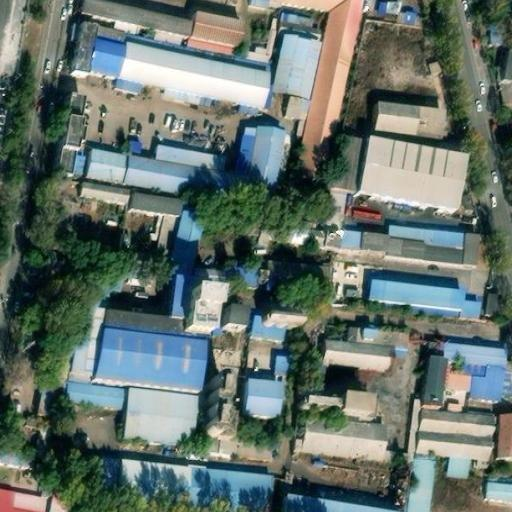building: (123, 127, 288, 201), (115, 48, 274, 118), (80, 459, 267, 512), (355, 149, 463, 221), (93, 341, 204, 405), (296, 411, 388, 464), (77, 2, 191, 43), (122, 395, 197, 455), (416, 413, 496, 463), (268, 42, 318, 115), (358, 235, 459, 268), (367, 286, 462, 318), (66, 38, 123, 89), (65, 315, 103, 388), (164, 289, 214, 342), (325, 261, 385, 305), (118, 226, 174, 270), (443, 363, 502, 404), (203, 369, 240, 434), (165, 220, 200, 283), (388, 221, 462, 250), (428, 343, 505, 370), (100, 319, 166, 349), (63, 387, 129, 416), (277, 496, 396, 512), (406, 461, 439, 512), (322, 347, 386, 373), (243, 383, 283, 423), (85, 151, 128, 186), (371, 110, 413, 145), (376, 11, 425, 41), (188, 24, 238, 53), (421, 360, 447, 415), (265, 261, 326, 284), (331, 142, 356, 196), (230, 428, 278, 456), (285, 217, 330, 246), (409, 112, 444, 149), (279, 1, 323, 30), (346, 385, 385, 415), (308, 381, 353, 407), (53, 126, 75, 177), (78, 185, 129, 206), (491, 417, 512, 465), (54, 204, 79, 240), (456, 232, 479, 271), (36, 374, 59, 413), (132, 198, 176, 217), (222, 319, 246, 353), (188, 267, 220, 289), (265, 327, 302, 345), (184, 305, 212, 327), (334, 231, 361, 253), (0, 443, 26, 465), (228, 273, 253, 295), (485, 484, 512, 503), (445, 457, 469, 478), (485, 17, 504, 43), (247, 334, 266, 359), (61, 103, 79, 128), (482, 292, 498, 317), (424, 53, 444, 73), (249, 315, 267, 336), (459, 304, 477, 324), (124, 126, 140, 147), (503, 55, 512, 76), (500, 6, 512, 18)
